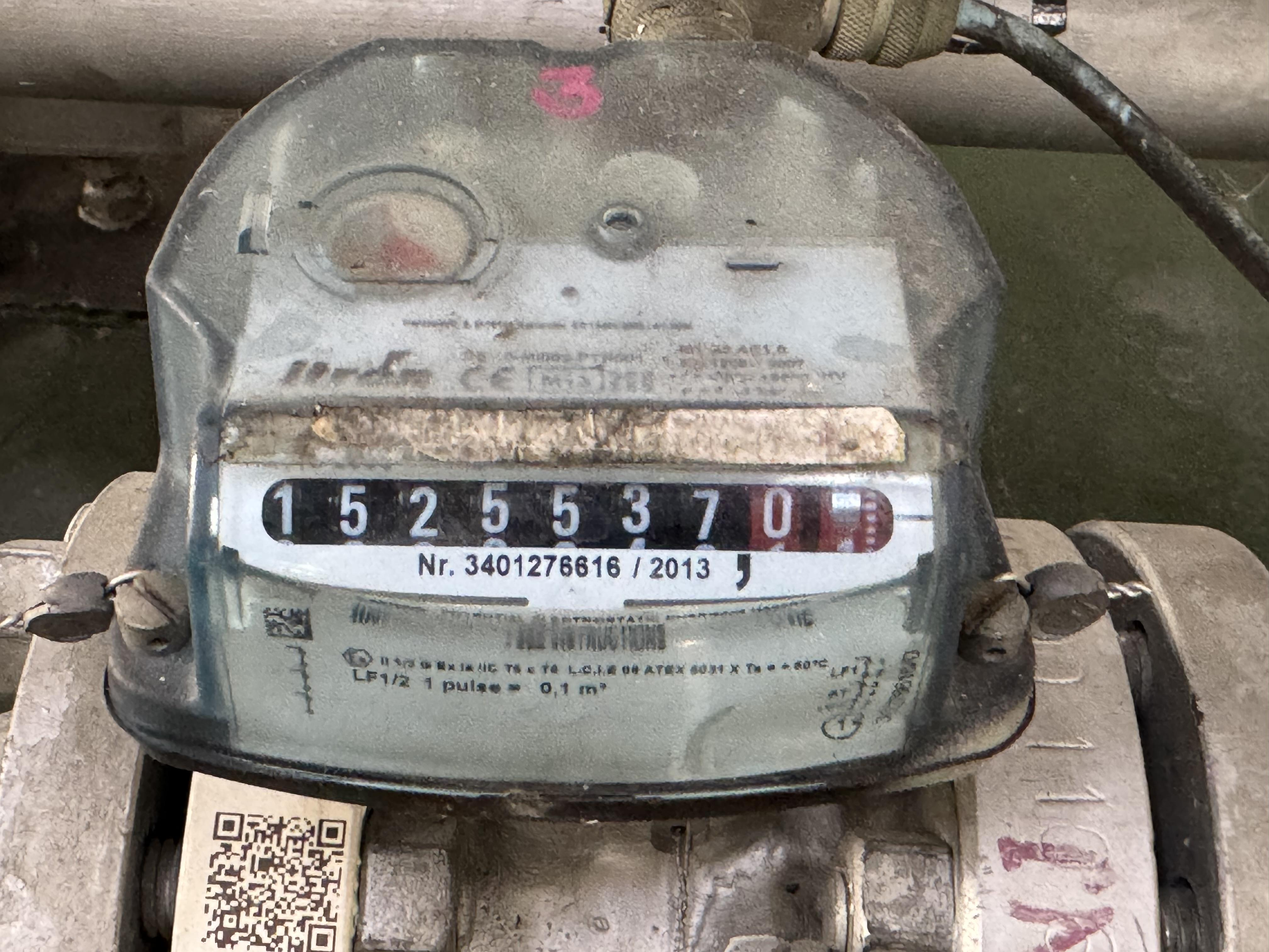analog_dial: (258, 464, 933, 566)
